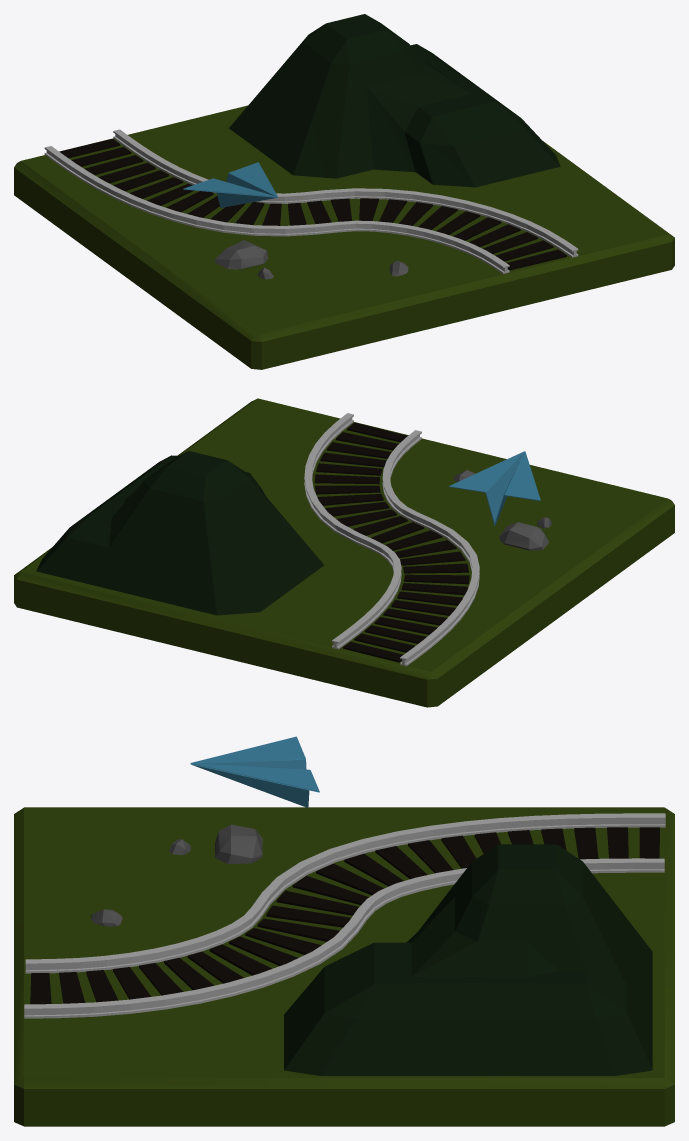
Rendered from W_O_Playground_BeachSymbolic_001_L0.fbx.
3 views of the same model, one above another, from view 1: azimuth 30°, elevation 25°; view 2: azimuth 150°, elevation 25°; view 3: azimuth 270°, elevation 25° (orthographic). The views are drawn at different scales.
Visible parts, largest first — view 1: W_O_Playground_BeachSymbolic_001_L0; view 2: W_O_Playground_BeachSymbolic_001_L0; view 3: W_O_Playground_BeachSymbolic_001_L0.
Part boxes in pixels (x1,y1,x2,y2): W_O_Playground_BeachSymbolic_001_L0: [14, 14, 674, 369]; W_O_Playground_BeachSymbolic_001_L0: [14, 398, 674, 707]; W_O_Playground_BeachSymbolic_001_L0: [14, 736, 674, 1126].
Size of the model in its own units: 2 by 0.608 by 2.
